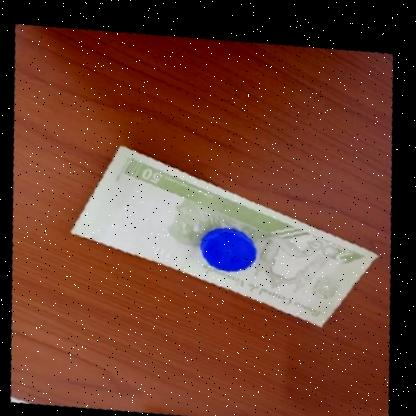fifty-back-vef: (66, 135, 387, 330)
